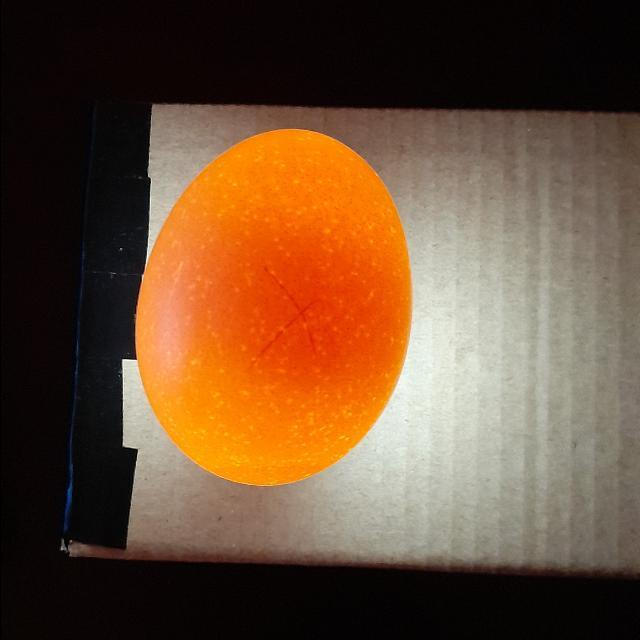AA - Premium: (125, 112, 423, 490)
